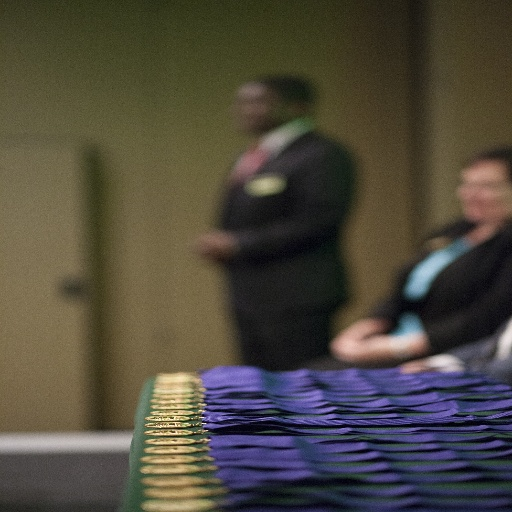hand: (329, 335, 398, 366), (192, 230, 236, 260), (331, 318, 385, 340)
